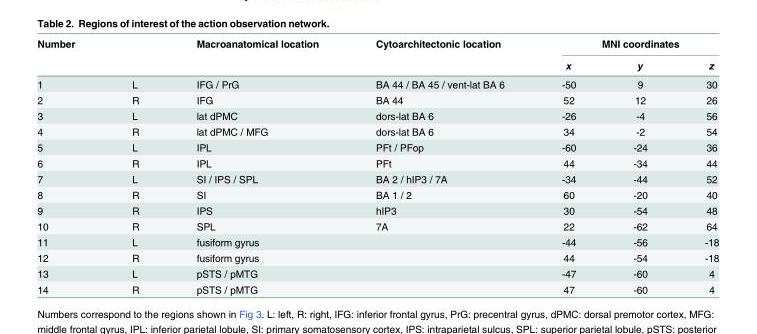table: (36, 37, 718, 294)
table column: (346, 37, 532, 294), (167, 37, 346, 294), (603, 37, 675, 294), (532, 37, 603, 294), (36, 37, 102, 294), (102, 37, 167, 294), (675, 37, 718, 294)
table column header: (36, 37, 718, 74)
table row: (36, 53, 718, 74), (36, 74, 718, 91), (36, 37, 718, 53), (36, 91, 718, 107), (36, 107, 718, 123), (36, 123, 718, 139), (36, 154, 718, 170), (36, 170, 718, 186), (36, 186, 718, 202), (36, 202, 718, 218), (36, 233, 718, 249), (36, 249, 718, 265), (36, 265, 718, 281), (36, 139, 718, 154), (36, 218, 718, 233), (36, 281, 718, 294)
table spanning cell: (346, 37, 532, 74), (167, 37, 346, 74), (532, 37, 718, 53), (36, 37, 102, 74)
